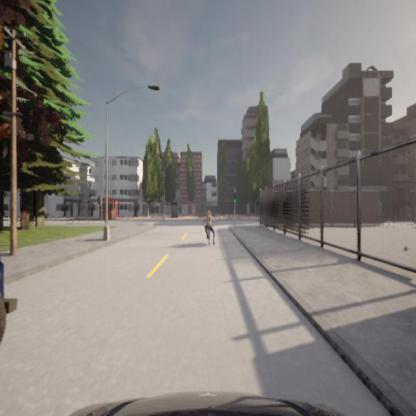bike: (202, 210, 215, 244)
traffic_light_green: (233, 190, 237, 204)
